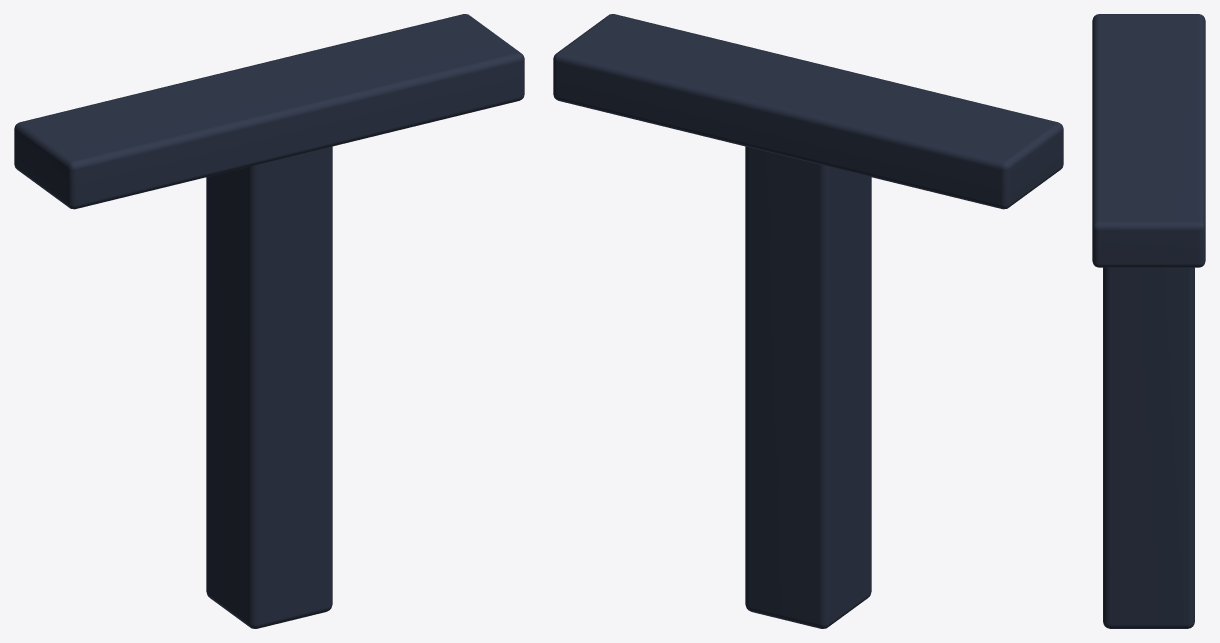
Rendered from Module_Pier.fbx.
The picture shows the model from 3 angles, left to right: view 1: azimuth 30°, elevation 25°; view 2: azimuth 150°, elevation 25°; view 3: azimuth 270°, elevation 25°; orthographic projection. The views are drawn at different scales.
Parts seen in each view (by area): view 1: Pier shaft, Pier capital; view 2: Pier shaft, Pier capital; view 3: Pier shaft, Pier capital.
Part boxes in pixels (x1=…): Pier shaft: x1=206, y1=64, x2=332, y2=628; Pier capital: x1=14, y1=14, x2=524, y2=209; Pier shaft: x1=745, y1=64, x2=871, y2=628; Pier capital: x1=553, y1=14, x2=1063, y2=209; Pier shaft: x1=1103, y1=101, x2=1194, y2=628; Pier capital: x1=1092, y1=14, x2=1205, y2=267.
Bounding box in the file's own units: 12 × 13 × 2.7.
